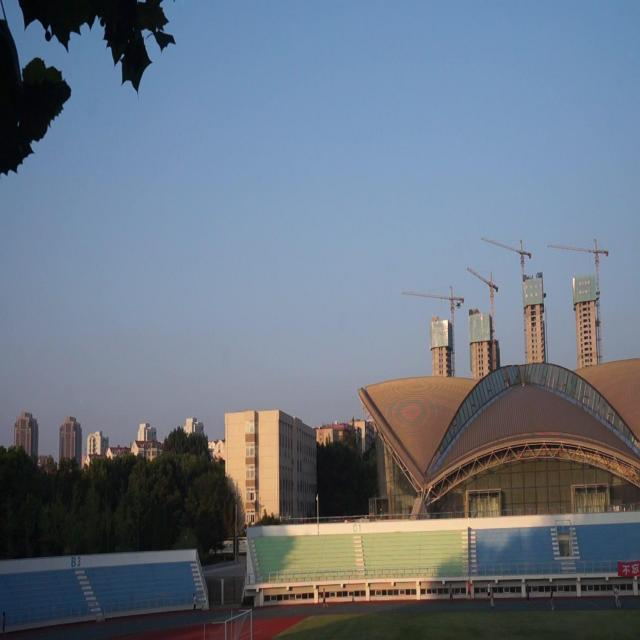UAV: (455, 300, 462, 310)
